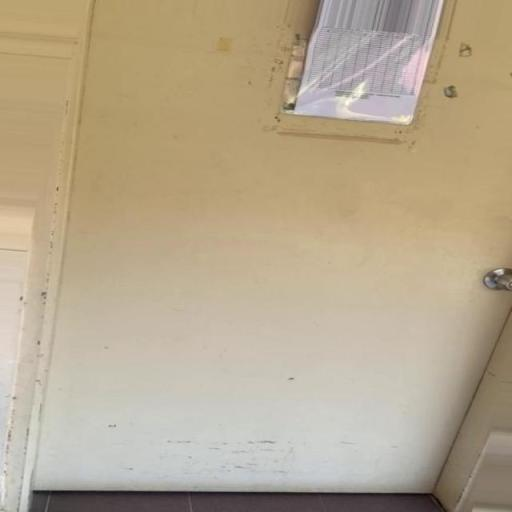door: (6, 0, 510, 505)
